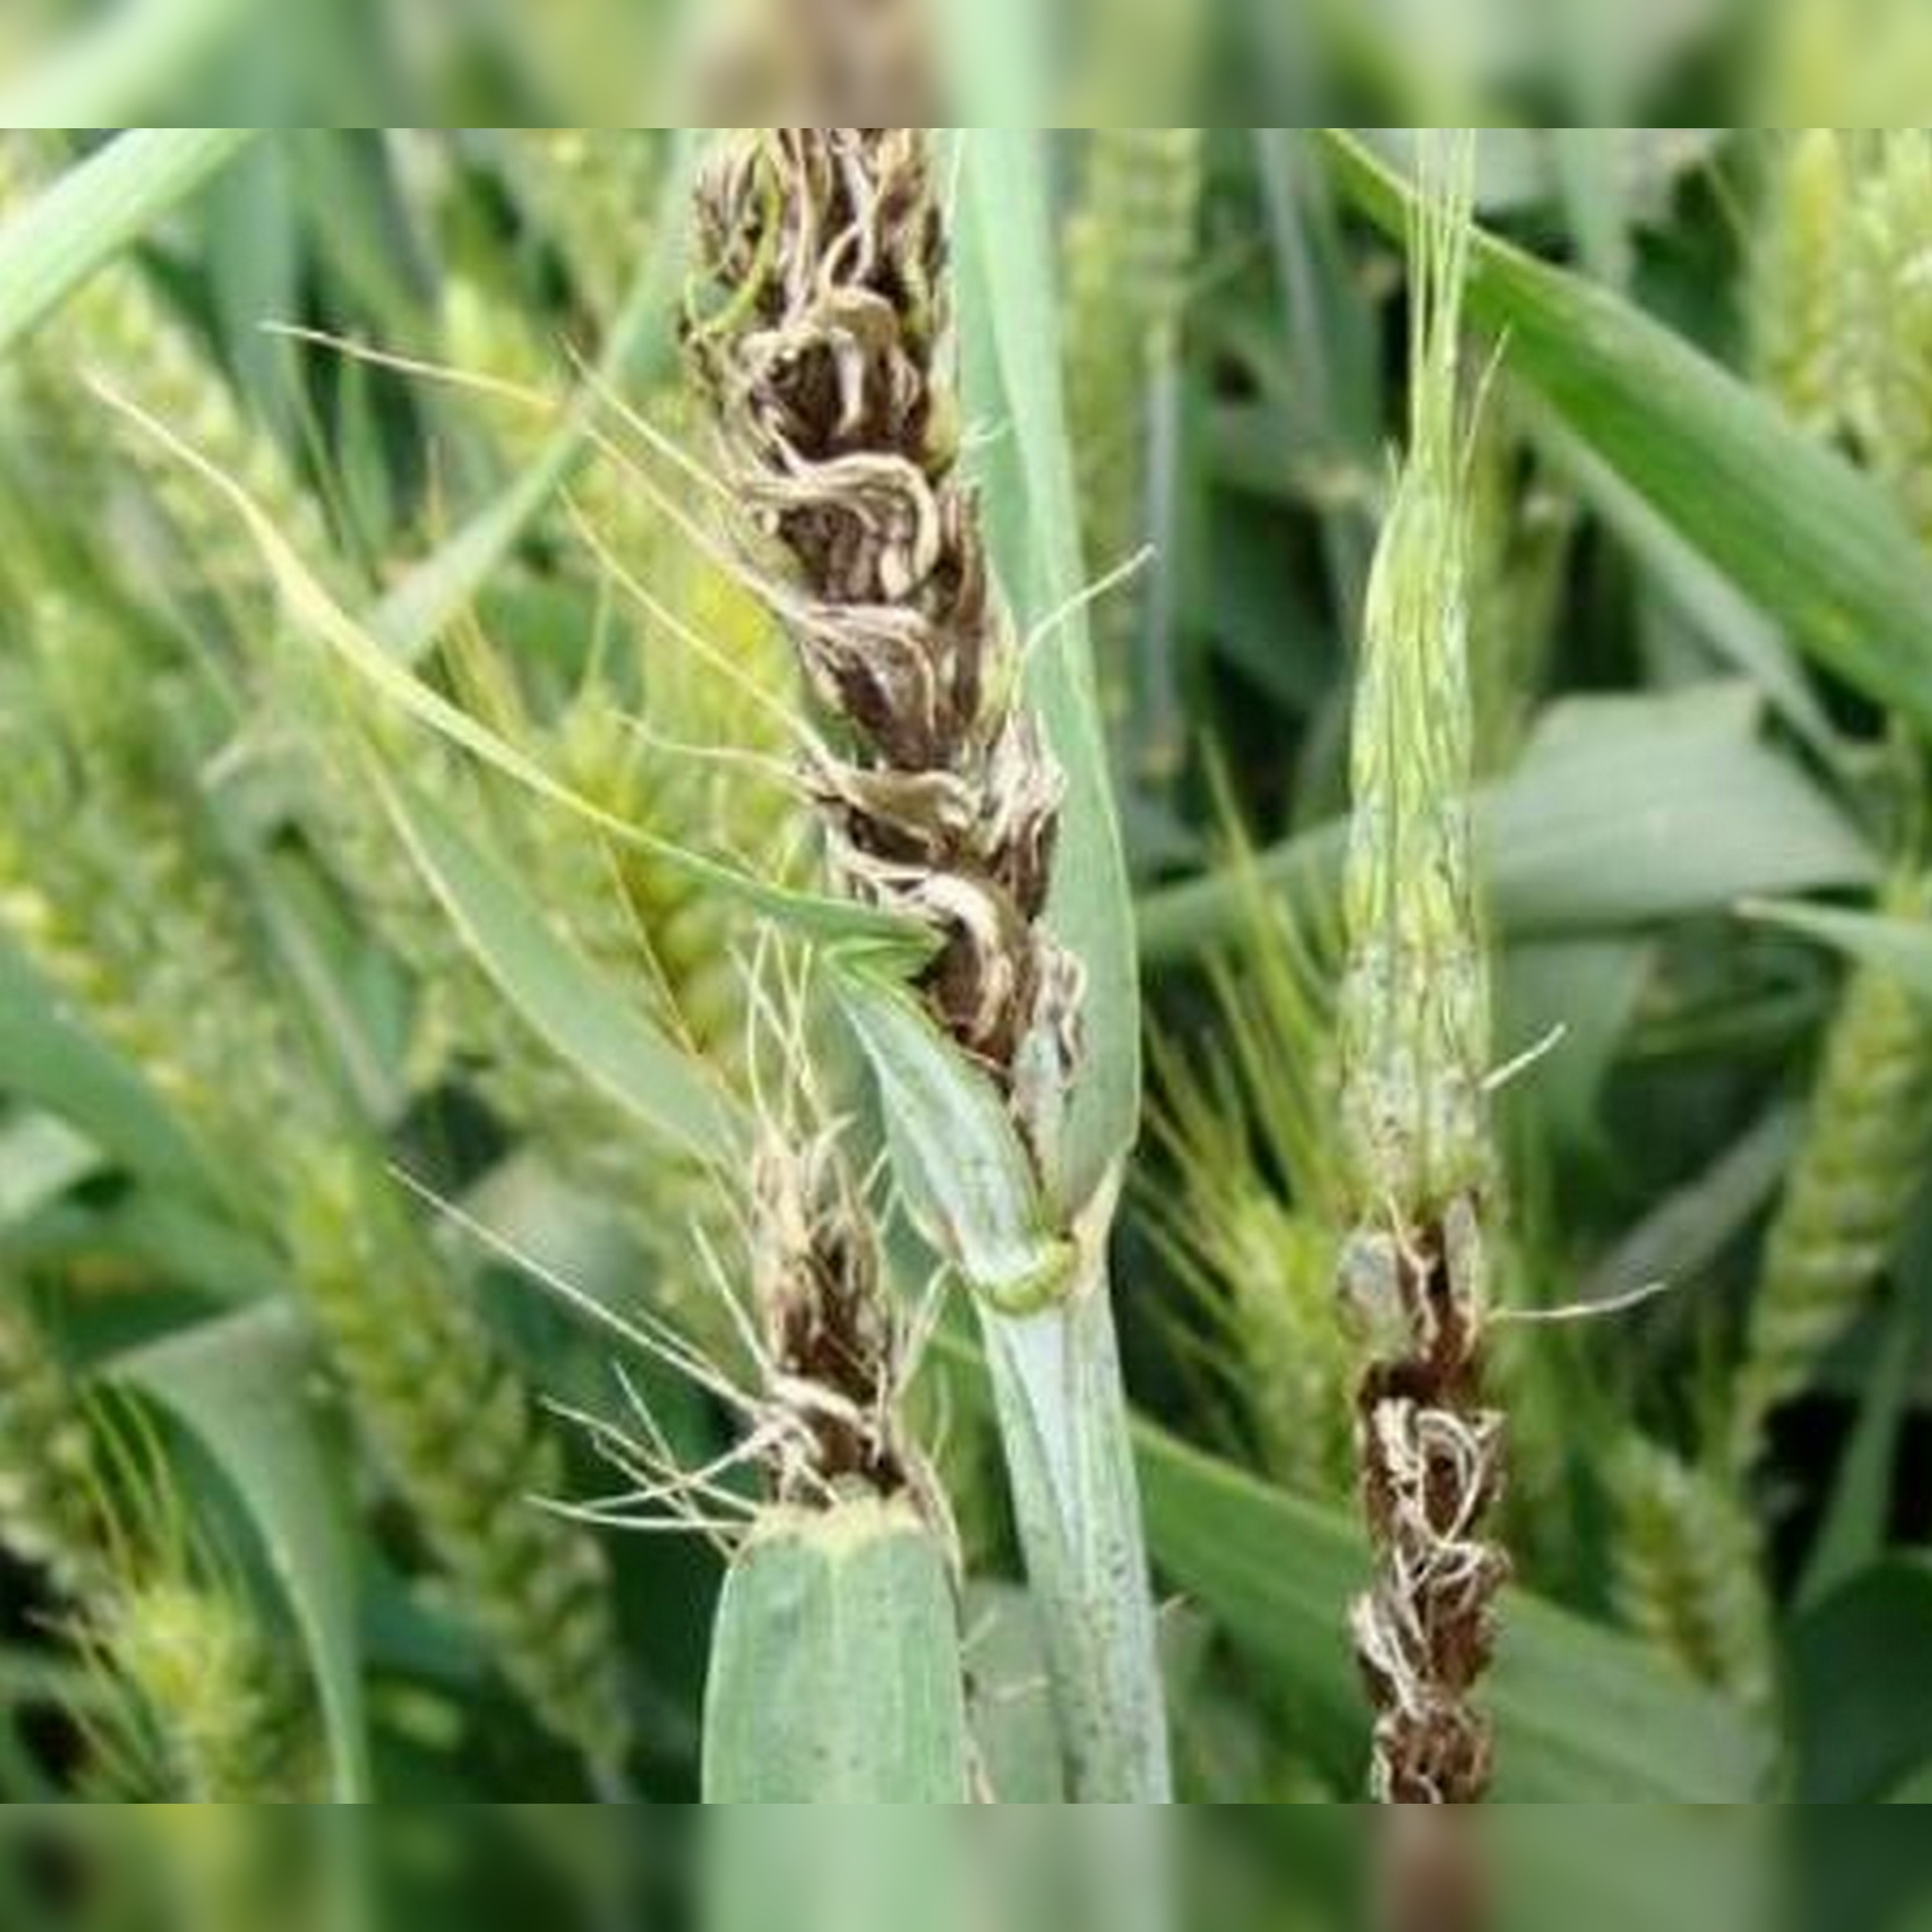Wheat Loose Smut: (692, 149, 1118, 1095), (1304, 1194, 1552, 1815)
